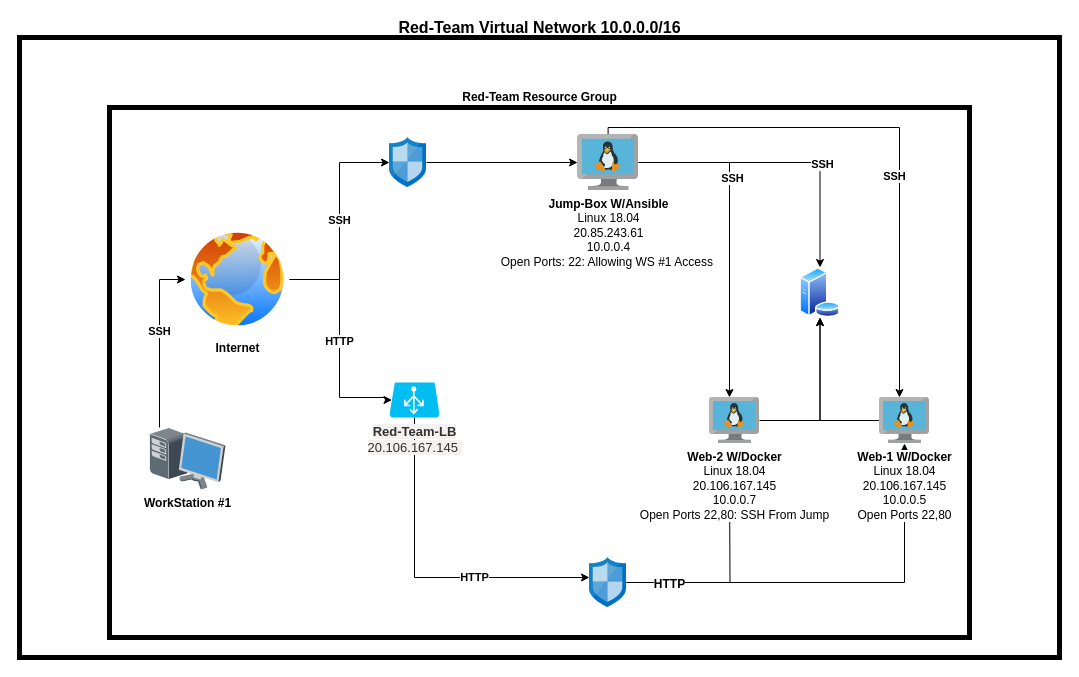
The diagram is 1079 pixels wide and 677 high, and some of its shapes have lost their labels. Each missing label, with the box of its shape:
Elk-Server W/Docker Linux 18.04 10.1.0.5: (799, 267, 840, 317)
ELK-SERVER-NSG: (589, 557, 626, 607)
Red-Team-NSG: (389, 137, 426, 187)
